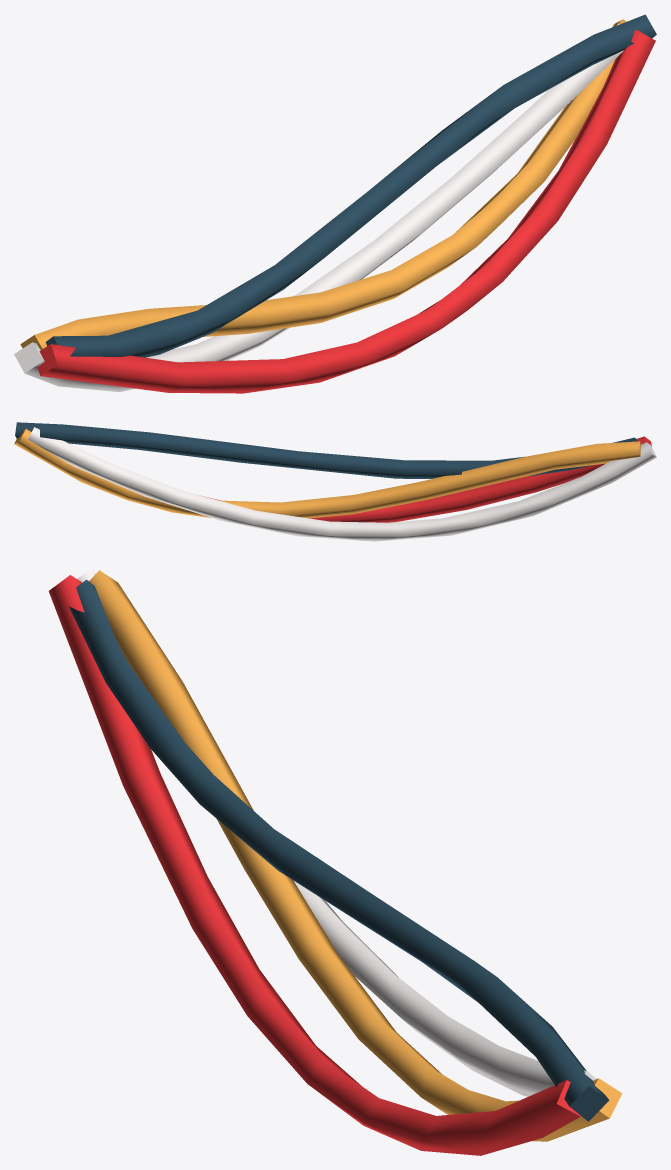
File: cables_tiny_1.fbx
3 renders of one model, top to bottom at view 1: azimuth 30°, elevation 25°; view 2: azimuth 150°, elevation 25°; view 3: azimuth 270°, elevation 25°, orthographic. The views are drawn at different scales.
Visible parts, largest first — view 1: cables_tiny_1; view 2: cables_tiny_1; view 3: cables_tiny_1.
Part boxes in pixels (x1,y1,x2,y2): cables_tiny_1: (14,14,656,393); cables_tiny_1: (14,422,656,541); cables_tiny_1: (48,570,622,1155).
Size of the model in its own units: 156 by 33.72 by 75.31.
